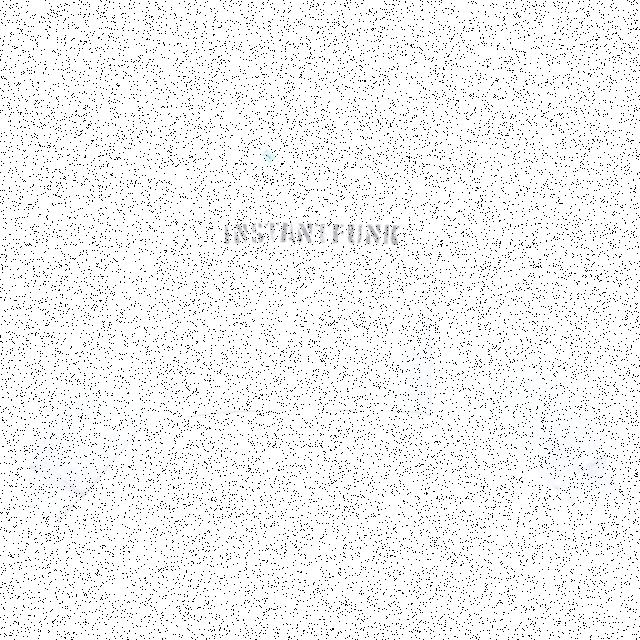dress: (33, 105, 619, 536)
